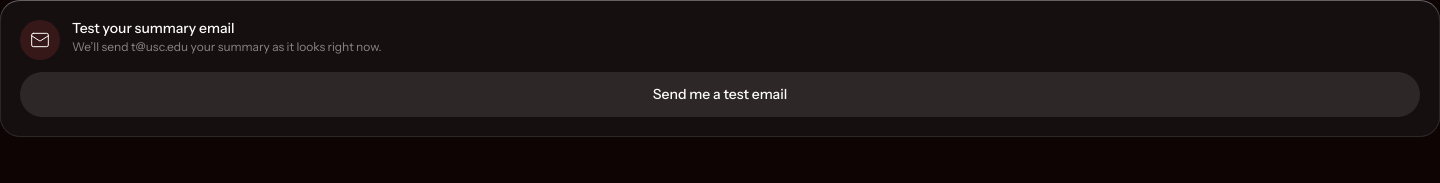
Test: test email button › sends the summary to the signed-in person and says where it went
The image size is (1440, 183).
Click the button "Send me a test email" at (720, 94), box x1=20 y1=72 x2=1420 y2=117
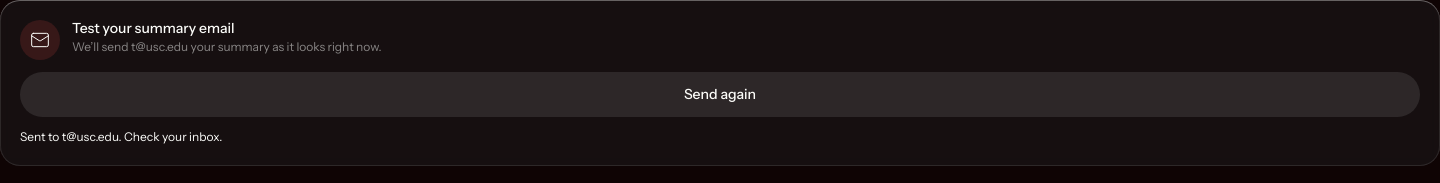
Now the message shows "Sent to t@usc.edu", box x1=20 y1=129 x2=222 y2=144
